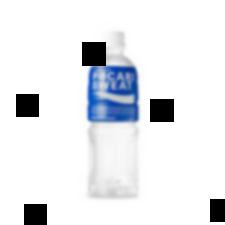pocarisweat: (84, 27, 141, 200)
